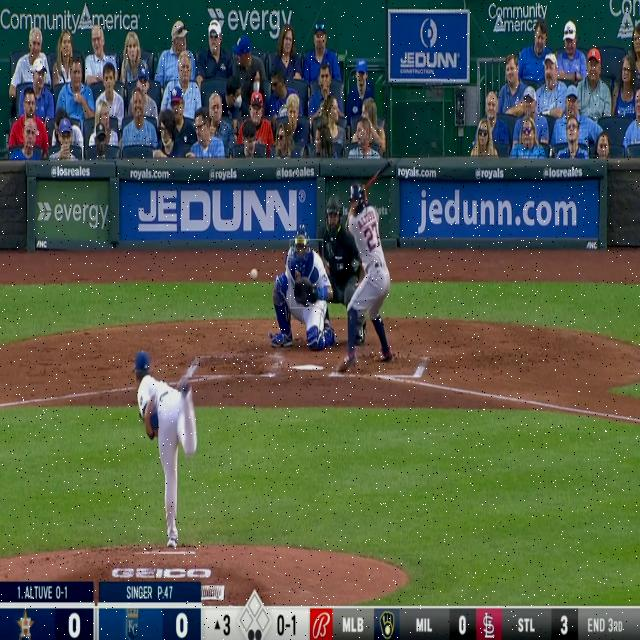baseball: (250, 268, 258, 280)
